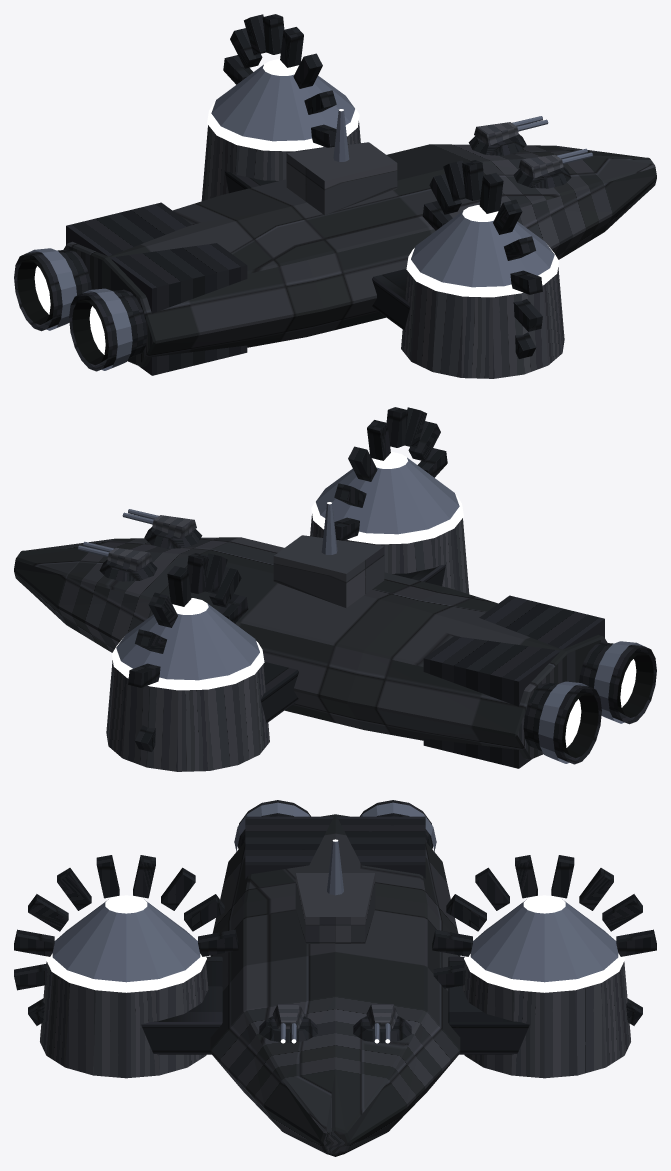
Rendered from interdictor.glb.
3 renders of one model, top to bottom at view 1: azimuth 30°, elevation 25°; view 2: azimuth 150°, elevation 25°; view 3: azimuth 270°, elevation 25°, orthographic. The views are drawn at different scales.
Parts seen in each view (by area): view 1: hull_body, shield_domes, engine_block, sensor_tower, weapon_turrets; view 2: hull_body, shield_domes, engine_block, sensor_tower, weapon_turrets; view 3: shield_domes, hull_body, engine_block, sensor_tower, weapon_turrets.
Boxes of the visible parts, <box> form: hull_body: <box>63,144,656,366</box>; shield_domes: <box>201,14,564,378</box>; engine_block: <box>14,202,247,375</box>; sensor_tower: <box>286,109,397,215</box>; weapon_turrets: <box>468,116,592,188</box>; hull_body: <box>14,537,607,759</box>; shield_domes: <box>106,407,469,771</box>; engine_block: <box>423,595,656,768</box>; sensor_tower: <box>273,502,384,608</box>; weapon_turrets: <box>78,509,202,581</box>; shield_domes: <box>14,855,656,1078</box>; hull_body: <box>141,814,529,1156</box>; engine_block: <box>234,800,436,878</box>; sensor_tower: <box>295,839,375,943</box>; weapon_turrets: <box>259,1004,411,1043</box>.
Size of the model in its own units: 44 by 13.85 by 39.62.
1 material, 1 textured.
